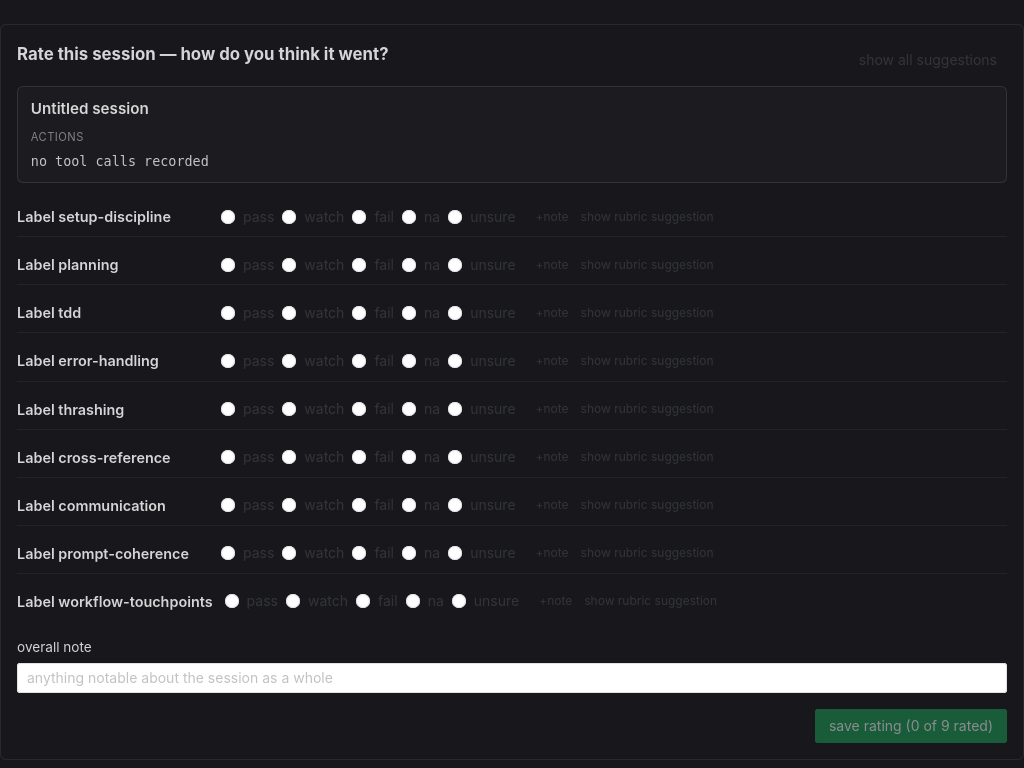
it: RatingSurvey — anchoring toggles › the per-row toggle reveals that row's rubric suggestion + evidence
What coordinates should you click on to do the following:
click the button with test id "survey-suggestion-toggle-0"
I would click on:
 (647, 217)
Its box is 581,211 -> 714,223.
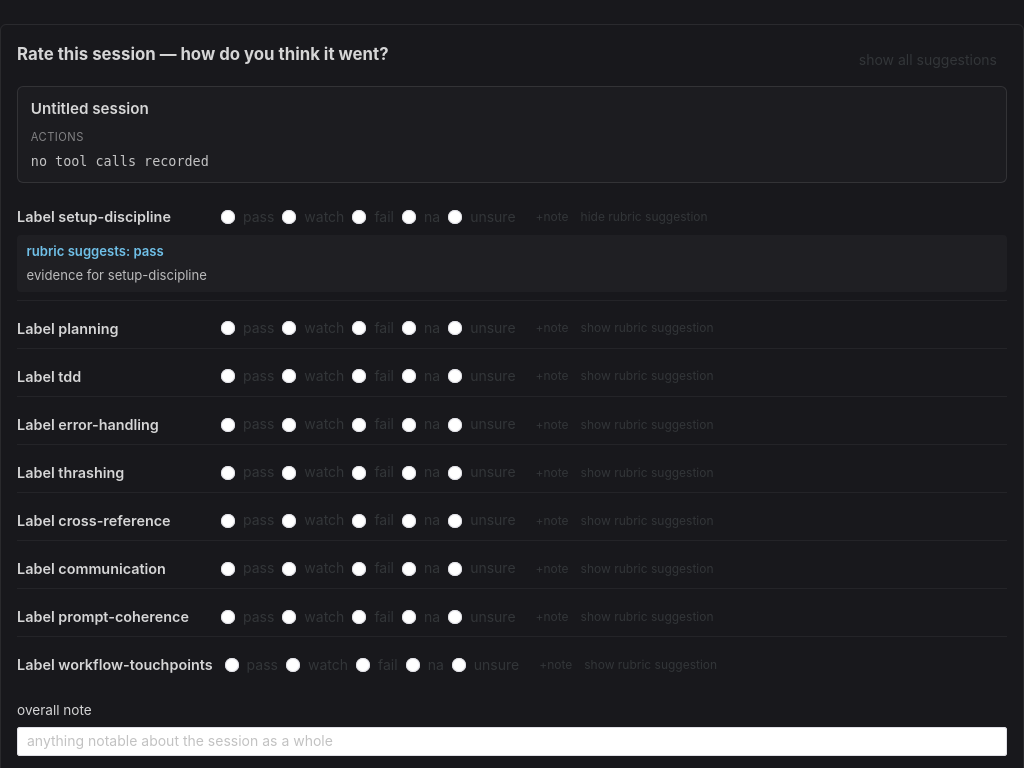
Expected: the element with test id "survey-suggestion-0" is shown, 17,235 -> 1007,292
